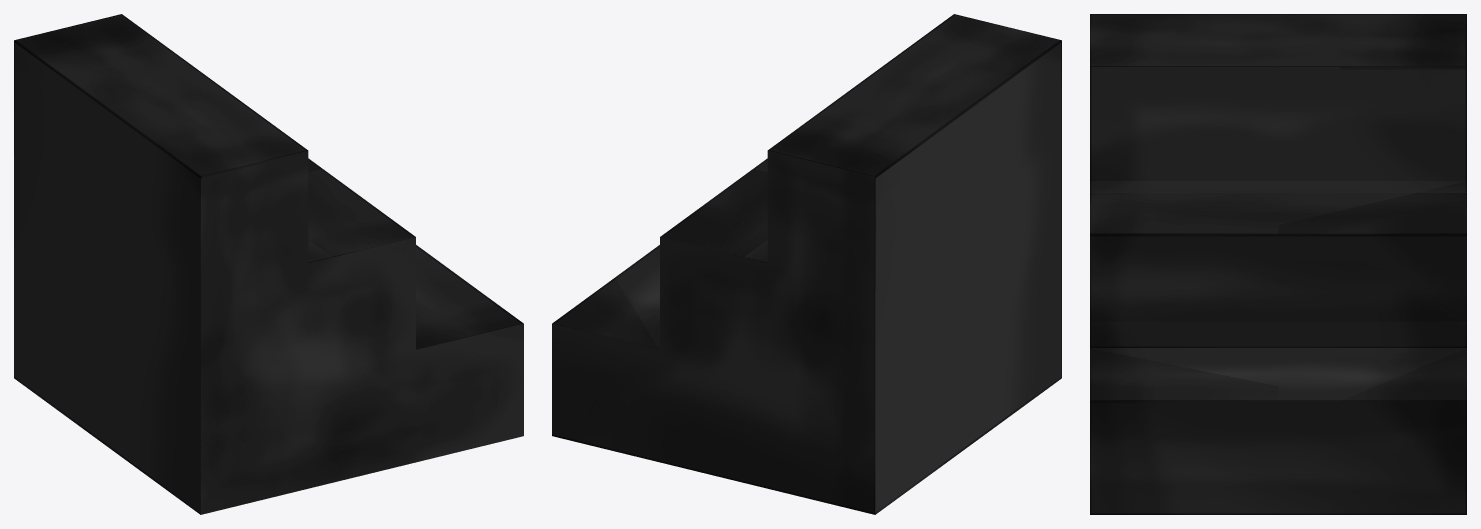
Rendered from stair2.dae.
The picture shows the model from 3 angles, left to right: view 1: azimuth 30°, elevation 25°; view 2: azimuth 150°, elevation 25°; view 3: azimuth 270°, elevation 25°; orthographic projection.
Parts seen in each view (by area): view 1: Cube; view 2: Cube; view 3: Cube.
Boxes of the visible parts, x1,y1,x2,y2 form: Cube: (14,14,523,514); Cube: (552,14,1061,514); Cube: (1090,14,1466,514).
Size of the model in its own units: 2 by 2 by 2.
Materials: 1 (1 with a texture image).
